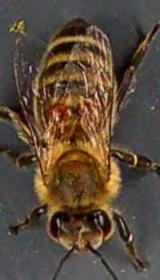varroa_mite: (46, 100, 72, 122)
